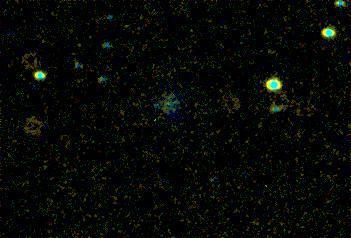star: (112, 11, 142, 41)
